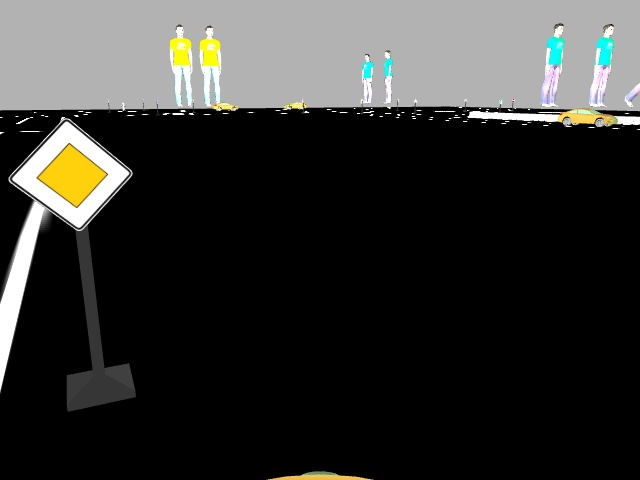Priority: (12, 122, 128, 233)
